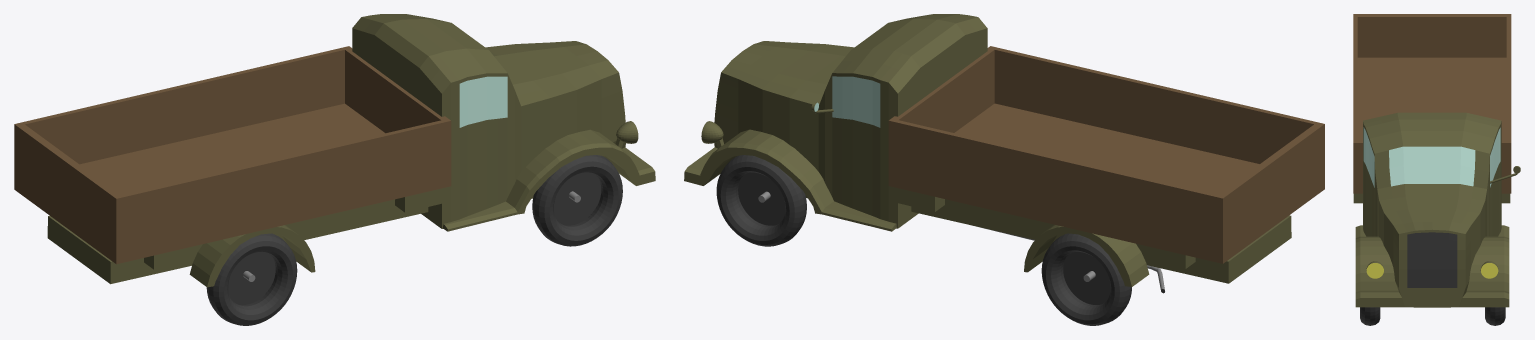
File: pickup_truck_6671c502.glb
The picture shows the model from 3 angles, left to right: view 1: azimuth 30°, elevation 25°; view 2: azimuth 150°, elevation 25°; view 3: azimuth 270°, elevation 25°; orthographic projection. The views are drawn at different scales.
Visible parts, largest first — view 1: Object_3, Object_7, Object_4, Object_5, Object_8; view 2: Object_3, Object_7, Object_4, Object_5, Object_8; view 3: Object_7, Object_3, Object_8, Object_4, Object_2.
Boxes of the visible parts, x1,y1,x2,y2 form: Object_3: (14, 46, 451, 264); Object_7: (47, 14, 655, 287); Object_4: (532, 155, 622, 246); Object_5: (206, 233, 297, 325); Object_8: (459, 76, 507, 127); Object_3: (888, 46, 1324, 263); Object_7: (684, 14, 1291, 286); Object_4: (716, 155, 806, 246); Object_5: (1041, 233, 1164, 325); Object_8: (814, 76, 880, 127); Object_7: (1353, 112, 1520, 307); Object_3: (1353, 14, 1511, 193); Object_8: (1363, 127, 1500, 187); Object_4: (1360, 232, 1505, 325); Object_2: (1366, 263, 1498, 278).
Bounding box in the file's own units: 4.82 × 1.76 × 1.67.
